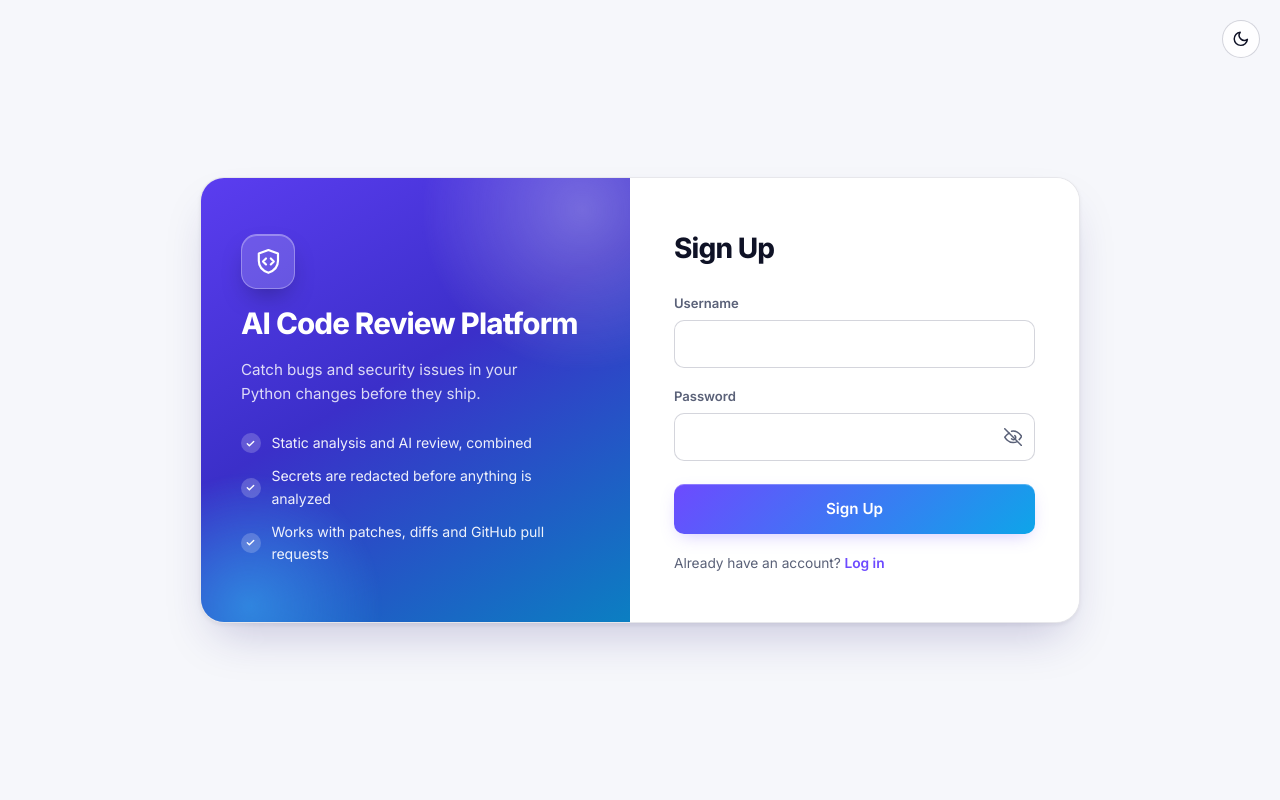
Test case: Signup page › signs up and lands on the dashboard
In the field labelled "Username": (854, 344) [674,320,1035,368], type "bob"
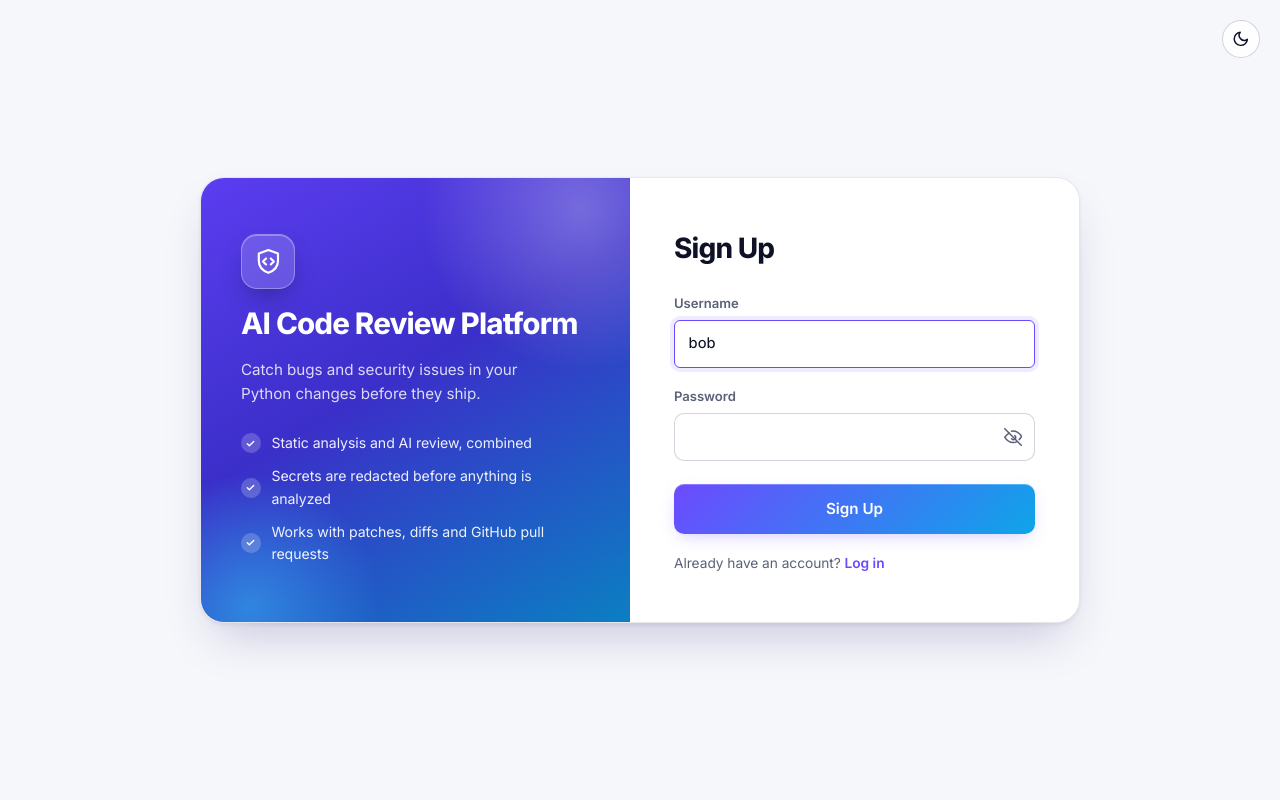
In the password field labelled "Password": (854, 437) [674,413,1035,461], type "password123"
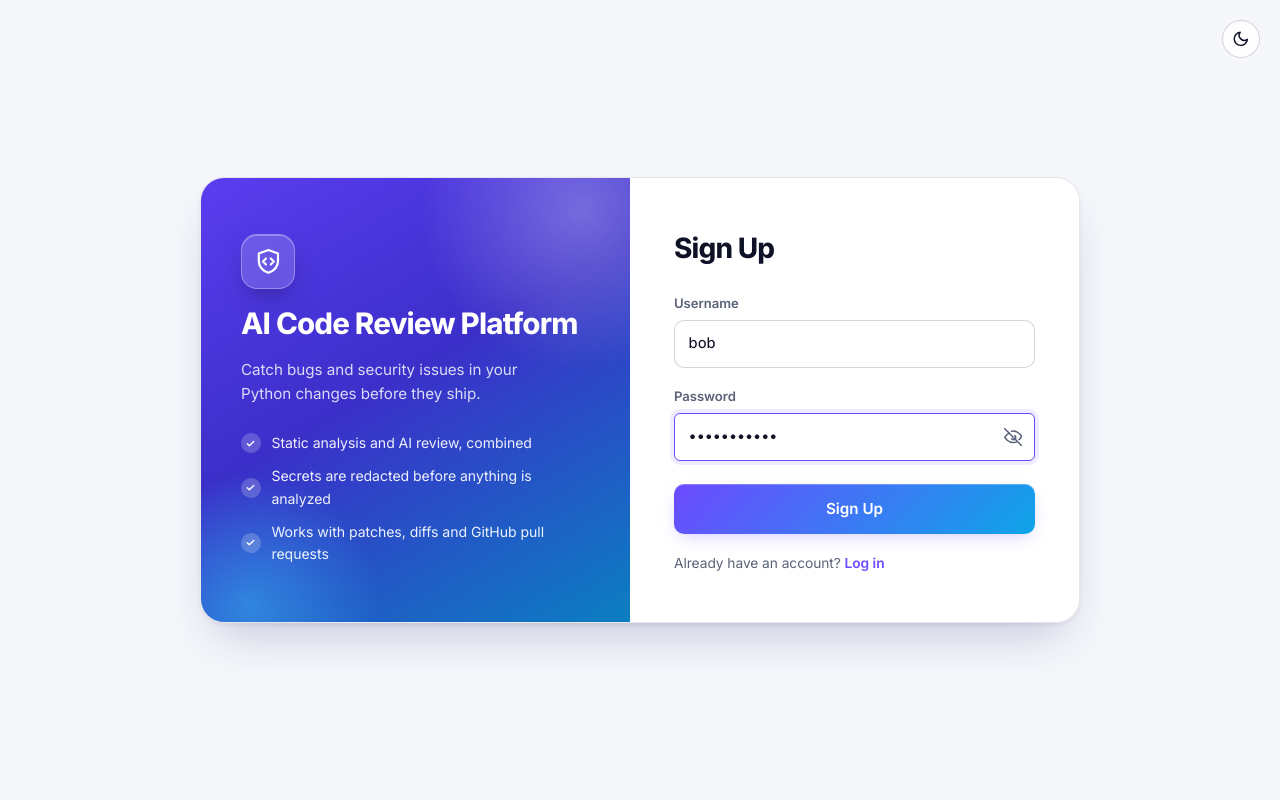
Click the button "Sign Up": click(854, 509) [674,484,1035,534]
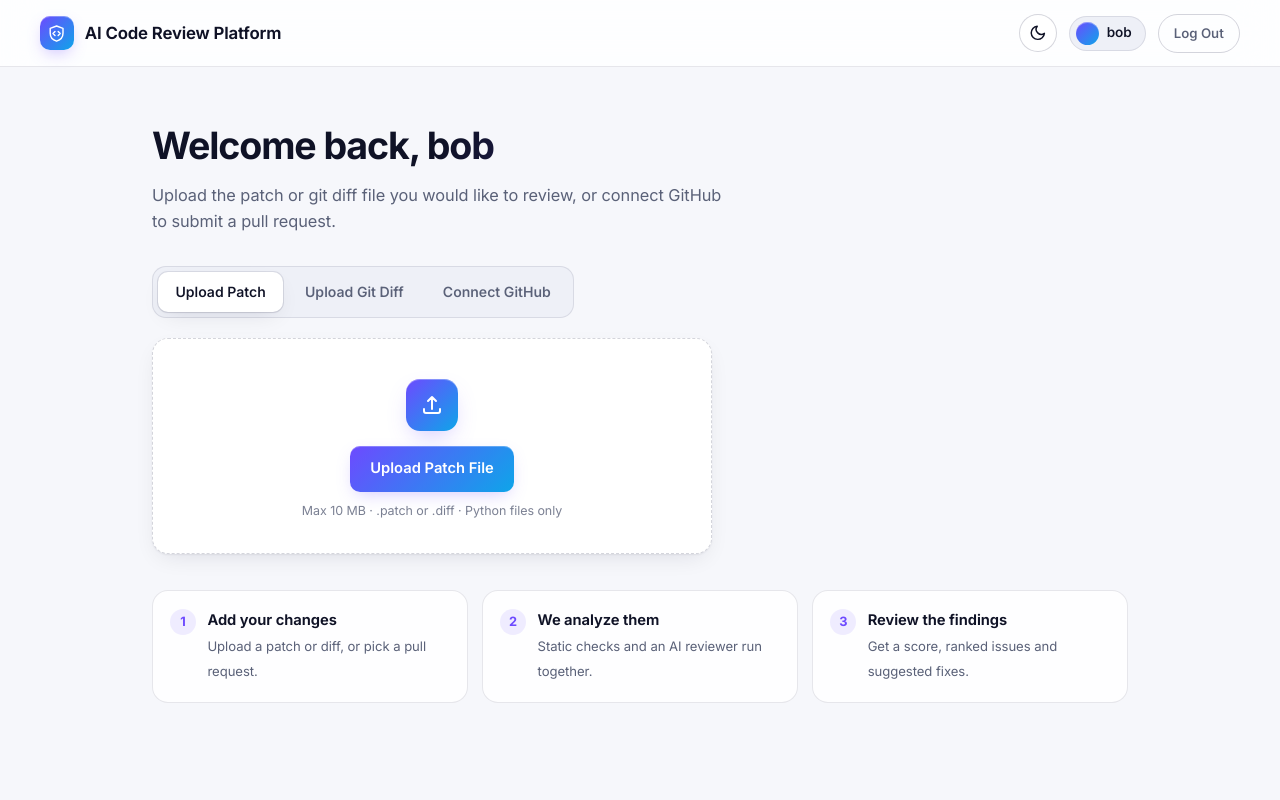
Expected: the heading "Welcome back, bob" is shown, [152,123,1128,172]
